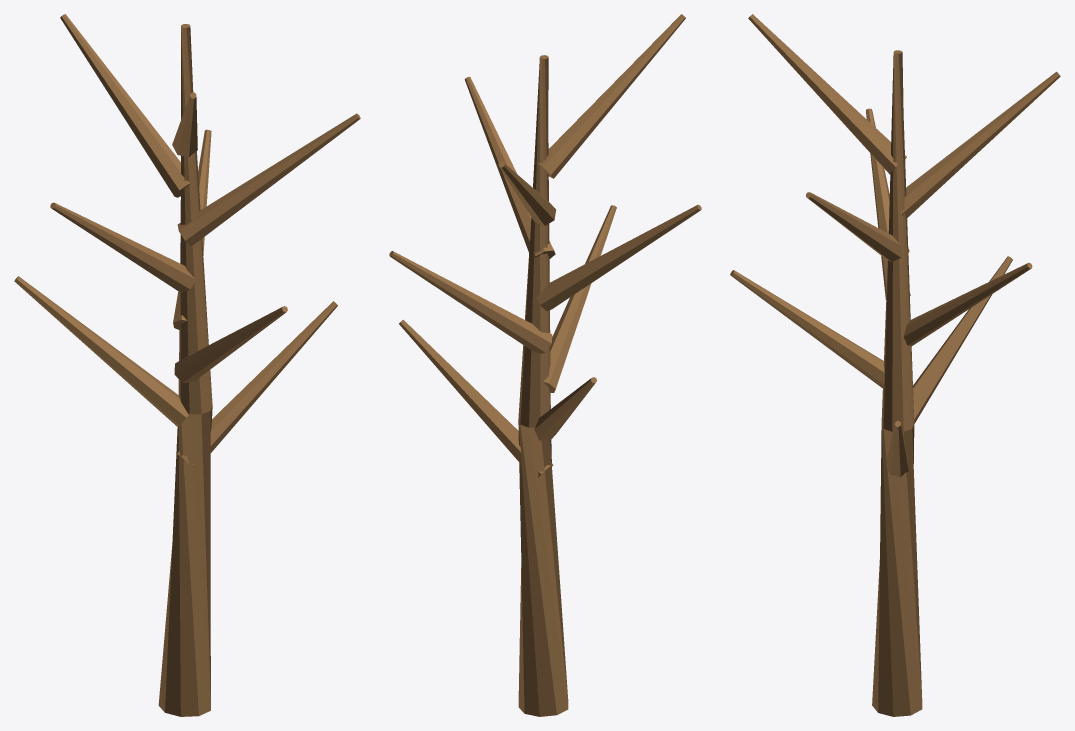
Rendered from POL_TREE_DEAD_01.fbx.
3 renders of one model, left to right at view 1: azimuth 30°, elevation 25°; view 2: azimuth 150°, elevation 25°; view 3: azimuth 270°, elevation 25°, orthographic. The views are drawn at different scales.
Parts seen in each view (by area): view 1: POL_TREE_DEAD_01; view 2: POL_TREE_DEAD_01; view 3: POL_TREE_DEAD_01.
Part boxes in pixels (x1,y1,x2,y2): POL_TREE_DEAD_01: (14, 14, 360, 716); POL_TREE_DEAD_01: (389, 14, 701, 716); POL_TREE_DEAD_01: (730, 14, 1060, 716).
Bounding box in the file's own units: 181 × 394 × 179.
